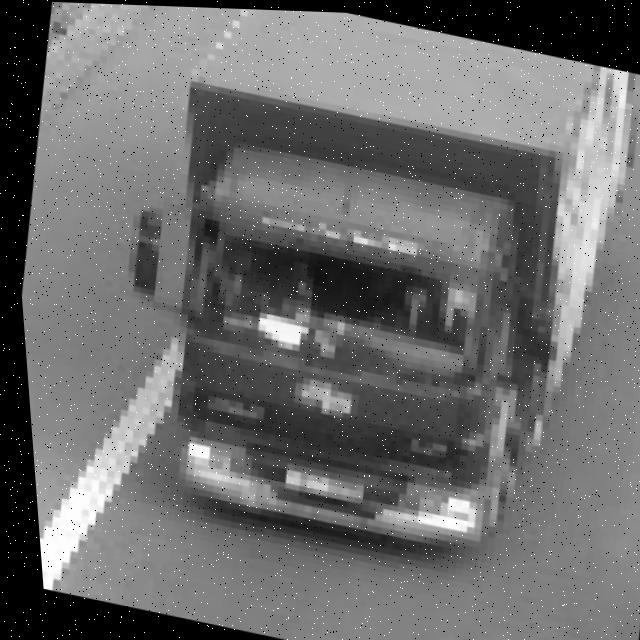truck: (84, 98, 586, 569)
